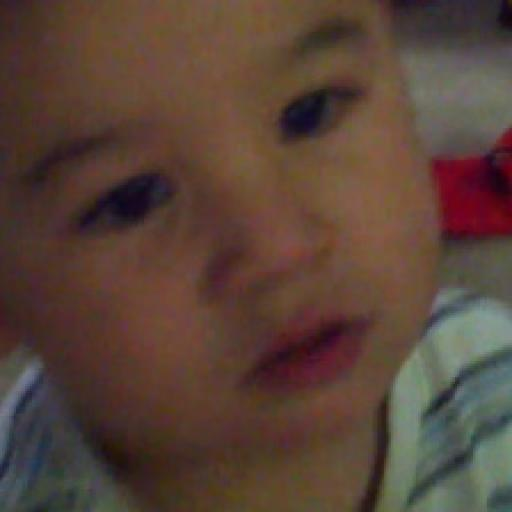Autism: (12, 0, 484, 483)
